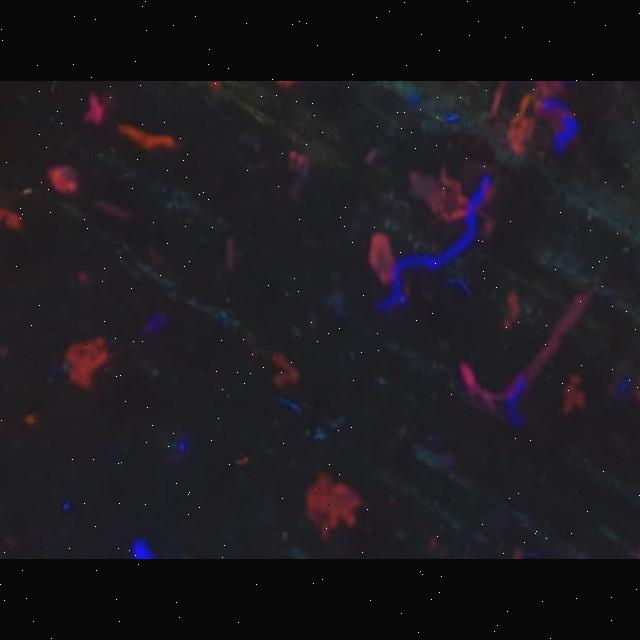Fragment: (306, 474, 362, 538), (62, 332, 112, 390)
